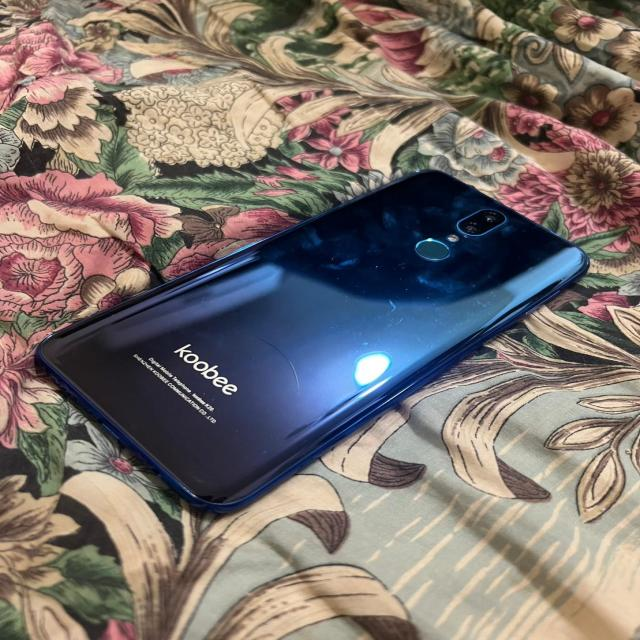Smartphone: (0, 130, 576, 514)
